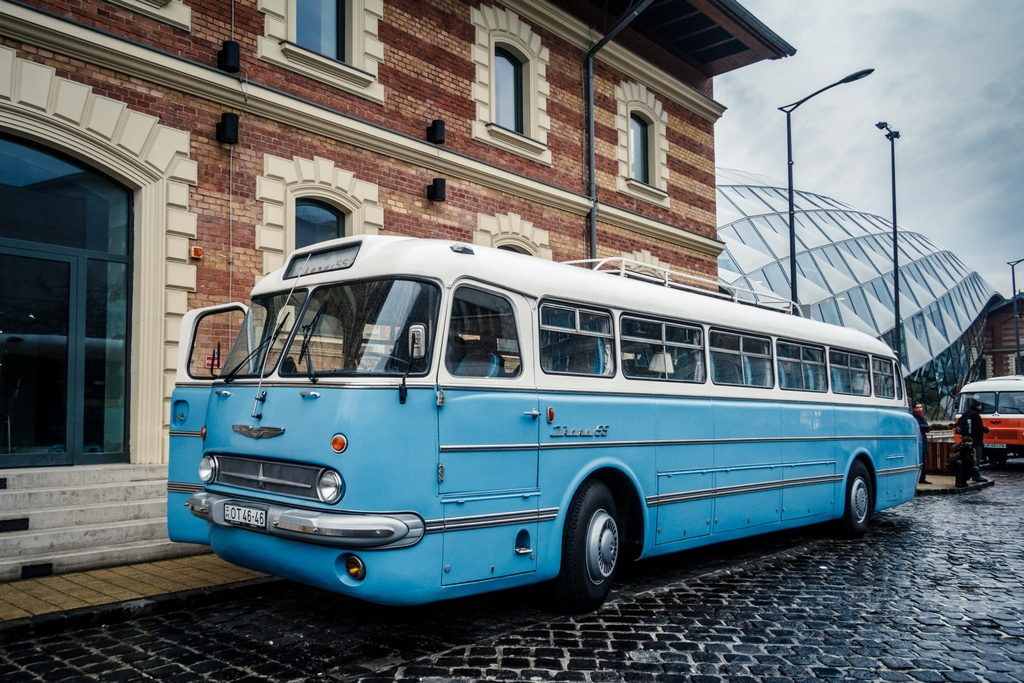Bus: (167, 234, 923, 612), (952, 374, 1023, 463)
